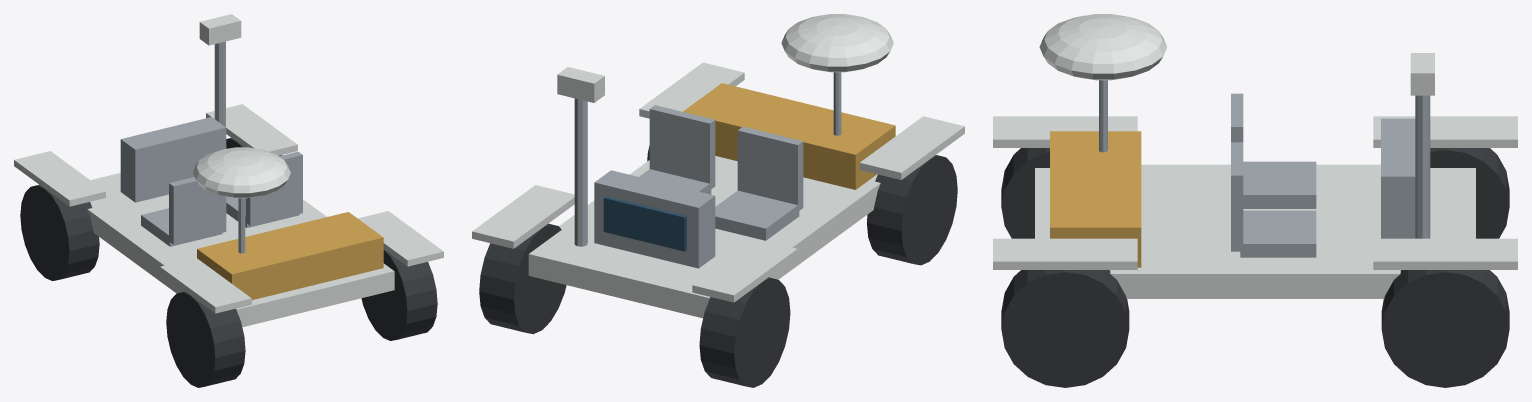
File: current_rover.glb
3 renders of one model, left to right at view 1: azimuth 30°, elevation 25°; view 2: azimuth 150°, elevation 25°; view 3: azimuth 270°, elevation 25°, orthographic. The views are drawn at different scales.
Parts seen in each view (by area): view 1: Current_Chassis, Current_GoldDeck, Current_FrontHousing, Current_Wheel_RL, Current_Wheel_FL, Current_Wheel_RR, Current_Dish, Current_SeatBack_L, Current_Fender_FL, Current_Fender_RL, Current_Fender_RR, Current_SeatBack_R (+6 smaller); view 2: Current_Chassis, Current_GoldDeck, Current_Wheel_FL, Current_Wheel_RL, Current_FrontHousing, Current_Wheel_FR, Current_Dish, Current_SeatBack_L, Current_SeatBack_R, Current_Fender_FL, Current_Fender_RL, Current_Fender_FR (+7 smaller); view 3: Current_Chassis, Current_Wheel_FR, Current_Wheel_RR, Current_GoldDeck, Current_Dish, Current_Fender_FR, Current_Fender_RR, Current_FrontHousing, Current_Wheel_FL, Current_SeatBase_R, Current_SeatBase_L, Current_Fender_FL (+7 smaller).
Boxes of the visible parts, box(x1,y1,x2,y2) form: Current_Chassis: box(87, 148, 394, 327); Current_GoldDeck: box(197, 212, 383, 299); Current_FrontHousing: box(120, 117, 226, 202); Current_Wheel_RL: box(166, 291, 245, 387); Current_Wheel_FL: box(20, 184, 99, 280); Current_Wheel_RR: box(361, 249, 437, 340); Current_Dish: box(193, 147, 290, 198); Current_SeatBack_L: box(169, 177, 226, 244); Current_Fender_FL: box(14, 151, 105, 206); Current_Fender_RL: box(160, 258, 251, 313); Current_Fender_RR: box(358, 211, 443, 266); Current_SeatBack_R: box(245, 151, 302, 225); Current_Chassis: box(528, 156, 880, 318); Current_GoldDeck: box(683, 83, 895, 189); Current_Wheel_FL: box(699, 277, 790, 387); Current_Wheel_RL: box(867, 155, 957, 265); Current_FrontHousing: box(594, 170, 715, 268); Current_Wheel_FR: box(479, 223, 566, 334); Current_Dish: box(781, 14, 893, 72); Current_SeatBack_L: box(737, 126, 803, 211); Current_SeatBack_R: box(649, 105, 715, 189); Current_Fender_FL: box(692, 238, 797, 302); Current_Fender_RL: box(859, 116, 964, 179); Current_Fender_FR: box(472, 185, 574, 248); Current_Chassis: box(1035, 164, 1475, 298); Current_Wheel_FR: box(1381, 270, 1509, 387); Current_Wheel_RR: box(1001, 270, 1129, 387); Current_GoldDeck: box(1050, 131, 1141, 267); Current_Dish: box(1039, 14, 1166, 80); Current_Fender_FR: box(1373, 238, 1517, 269); Current_Fender_RR: box(993, 238, 1137, 269); Current_FrontHousing: box(1381, 118, 1415, 238); Current_Wheel_FL: box(1430, 148, 1509, 238); Current_SeatBase_R: box(1240, 210, 1316, 257); Current_SeatBase_L: box(1243, 161, 1316, 208); Current_Fender_FL: box(1373, 116, 1517, 147).
Bounding box in the file's own units: 2.26 × 2.1 × 3.45.
